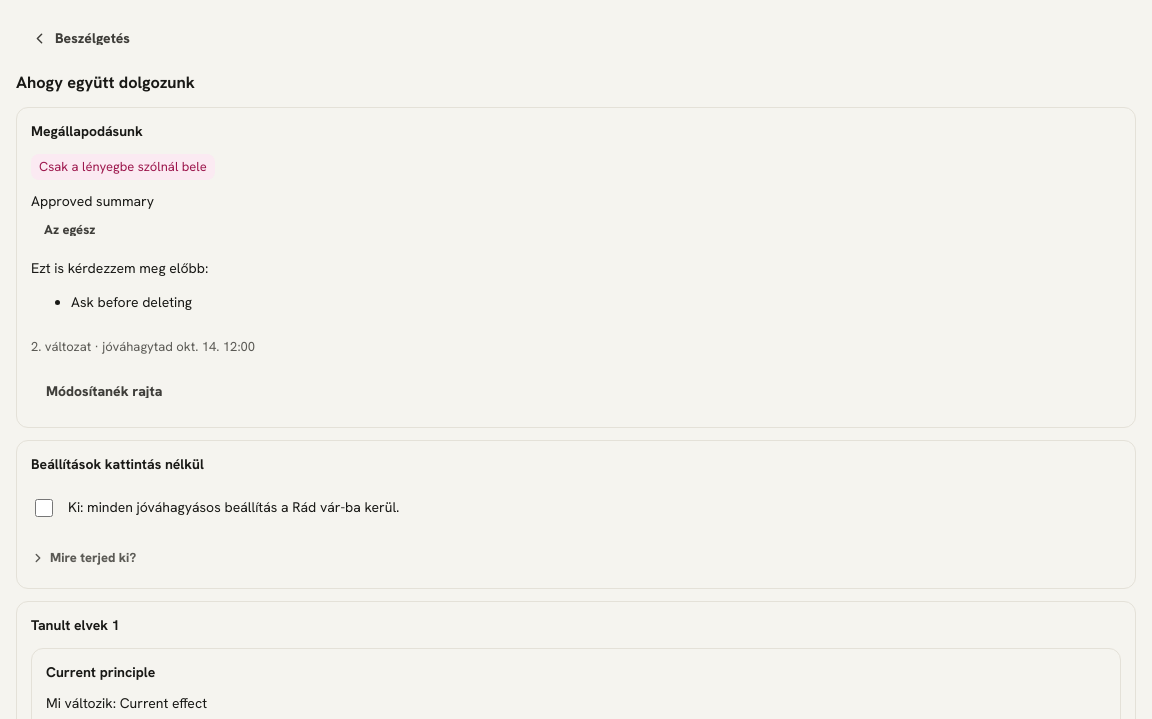
Test: Operator knowledge view › refreshes after a conflict without retrying or enabling
Click the switch named "Beállítások kattintás nélkül" at (44, 508), box [35,499,53,517]
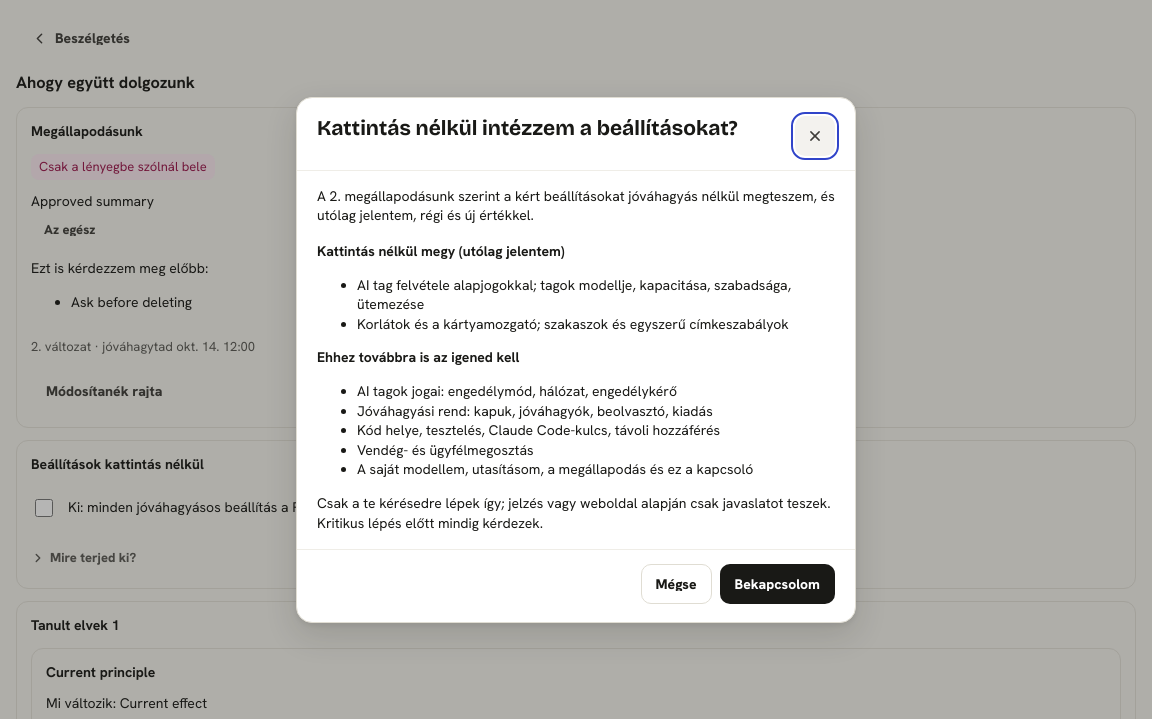
Click the button "Bekapcsolom" at (777, 584), box [720,564,835,604]
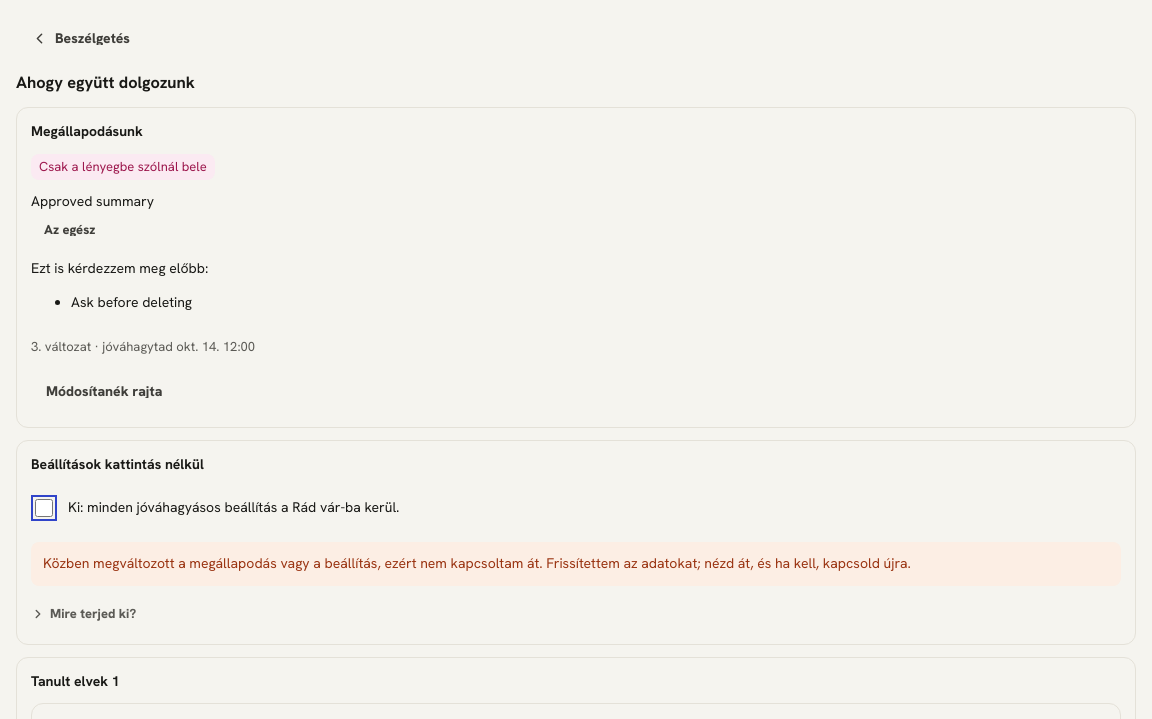
Expected: the switch named "Beállítások kattintás nélkül" is not checked, [35,499,53,517]
Now the message shows "Közben megváltozott a megállapodás vagy a beállítás, ezért nem kapcsoltam át. Frissítettem az adatokat; nézd át, és ha kell, kapcsold újra.", box [43,554,911,572]
